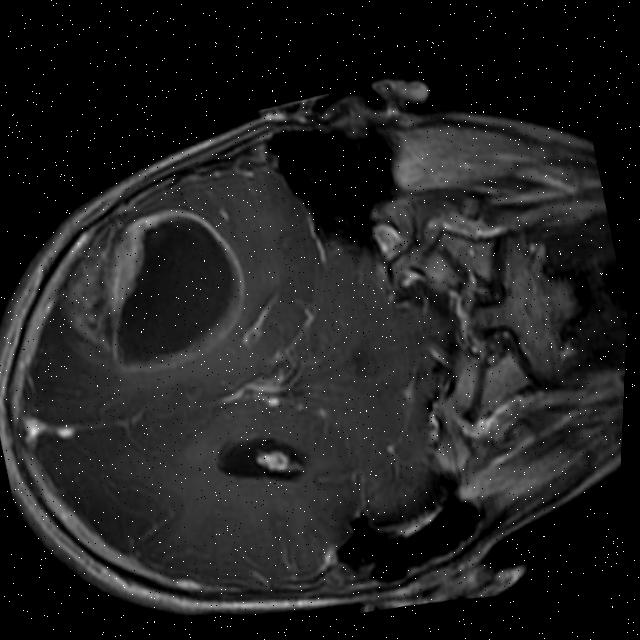Glioma: (45, 186, 266, 390)
